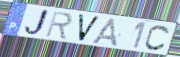1: (131, 21, 147, 50)
A: (90, 17, 119, 48)
C: (144, 24, 171, 52)
J: (22, 8, 51, 37)
R: (45, 10, 74, 40)
V: (77, 13, 102, 43)
